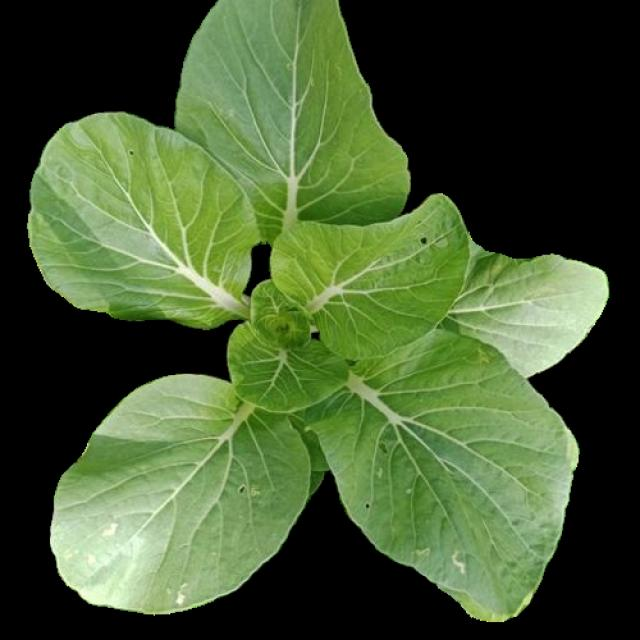mature: (26, 4, 606, 619)
unhealthy: (306, 334, 578, 614), (54, 371, 315, 612), (32, 114, 255, 325), (272, 192, 468, 357)
